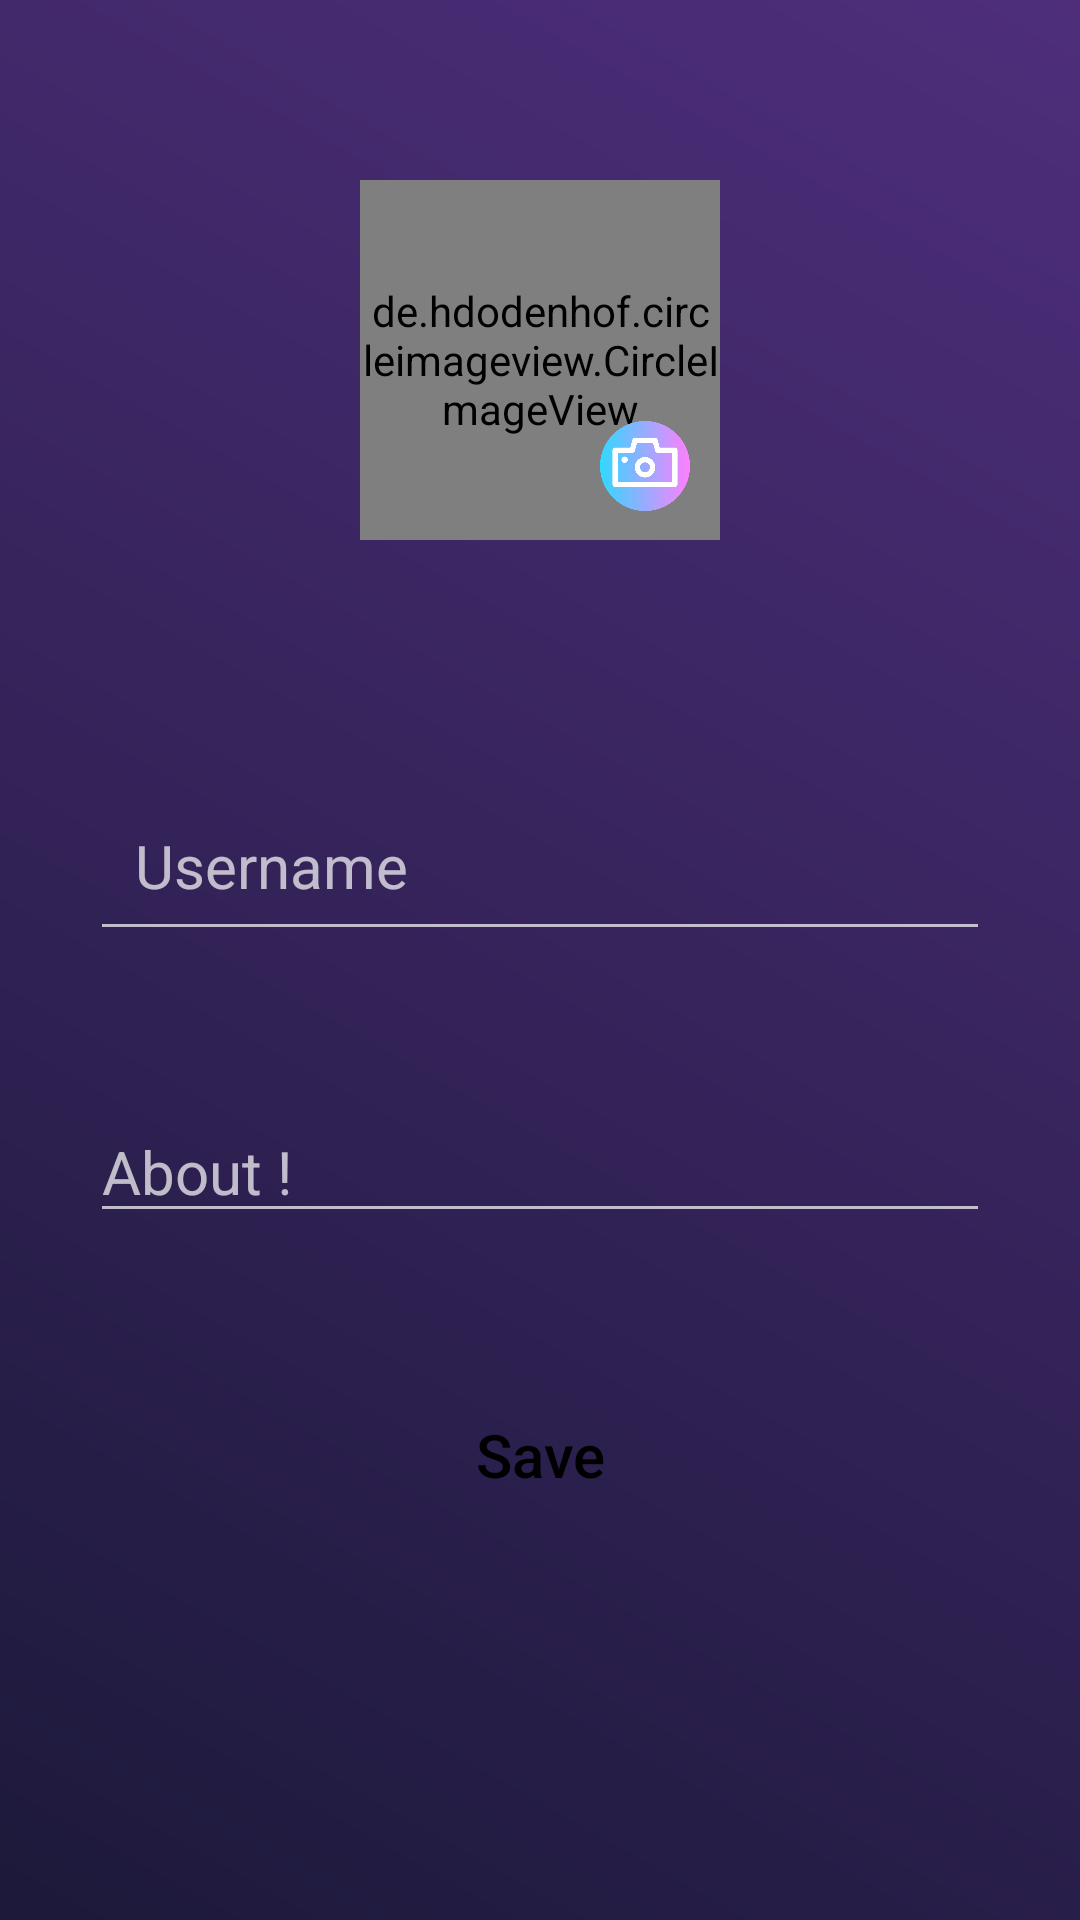

Point at icon controls on the screen. Image size 1080px x 1920px, points as [x,y].
profile camera: [645,466]
